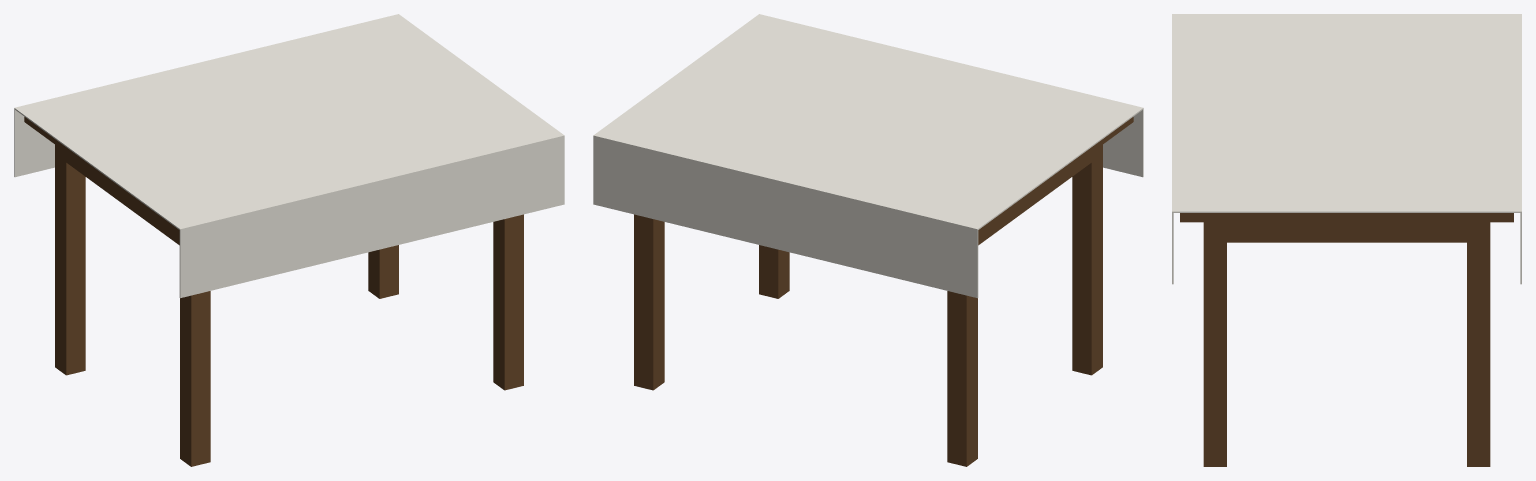
3 renders of one model, left to right at view 1: azimuth 30°, elevation 25°; view 2: azimuth 150°, elevation 25°; view 3: azimuth 270°, elevation 25°, orthographic. The views are drawn at different scales.
Parts seen in each view (by area): view 1: parametric-variant-table-1st-pub-5a76463f16d2e293d55d; view 2: parametric-variant-table-1st-pub-5a76463f16d2e293d55d; view 3: parametric-variant-table-1st-pub-5a76463f16d2e293d55d.
Boxes of the visible parts, x1,y1,x2,y2 form: parametric-variant-table-1st-pub-5a76463f16d2e293d55d: (14, 14, 564, 466); parametric-variant-table-1st-pub-5a76463f16d2e293d55d: (593, 14, 1143, 466); parametric-variant-table-1st-pub-5a76463f16d2e293d55d: (1172, 14, 1521, 466).
Bounding box in the file's own units: 1.19 × 0.754 × 0.89.
